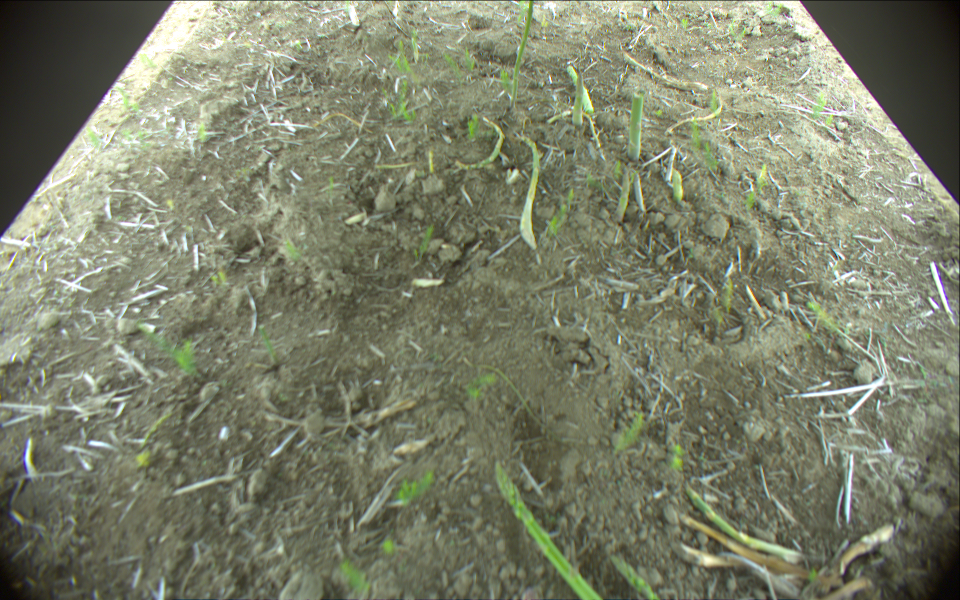aspa: (495, 463, 600, 600), (684, 479, 802, 562), (455, 114, 505, 171), (512, 1, 536, 109), (667, 94, 725, 134), (516, 135, 536, 249), (611, 555, 660, 600), (567, 63, 596, 112), (626, 91, 643, 161), (615, 171, 628, 222), (573, 71, 585, 124)
